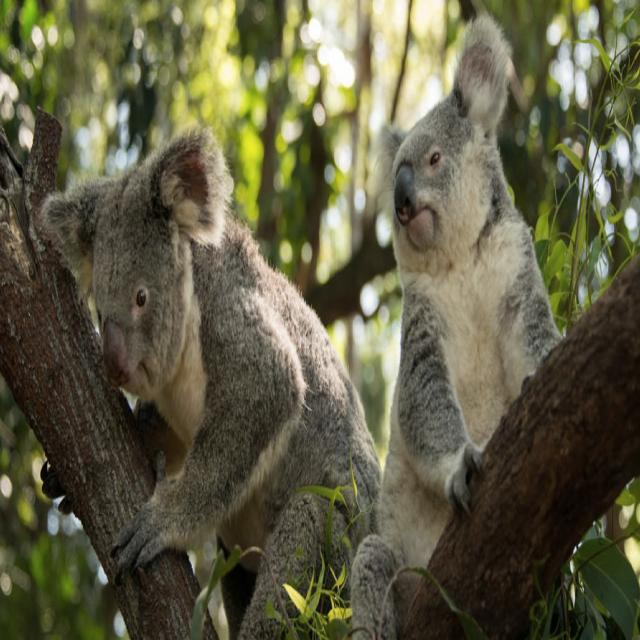koala: (41, 128, 379, 639), (351, 13, 560, 639)
